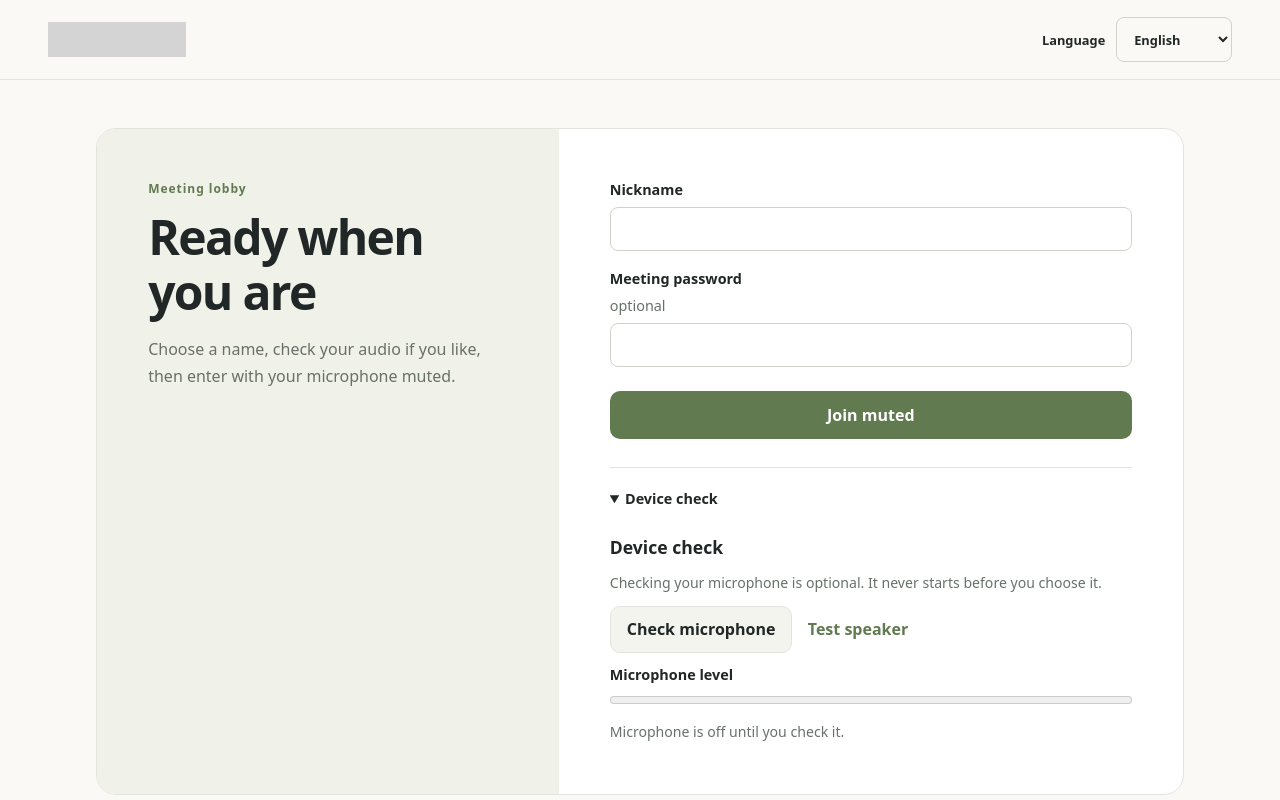
Scenario: join lobby › requires a nickname and sends a muted join request
Expected: the field labelled "Nickname" is shown, [610,207,1132,251]
Step 1. Click the button "Join muted" → (871, 415), box [610,391,1132,439]
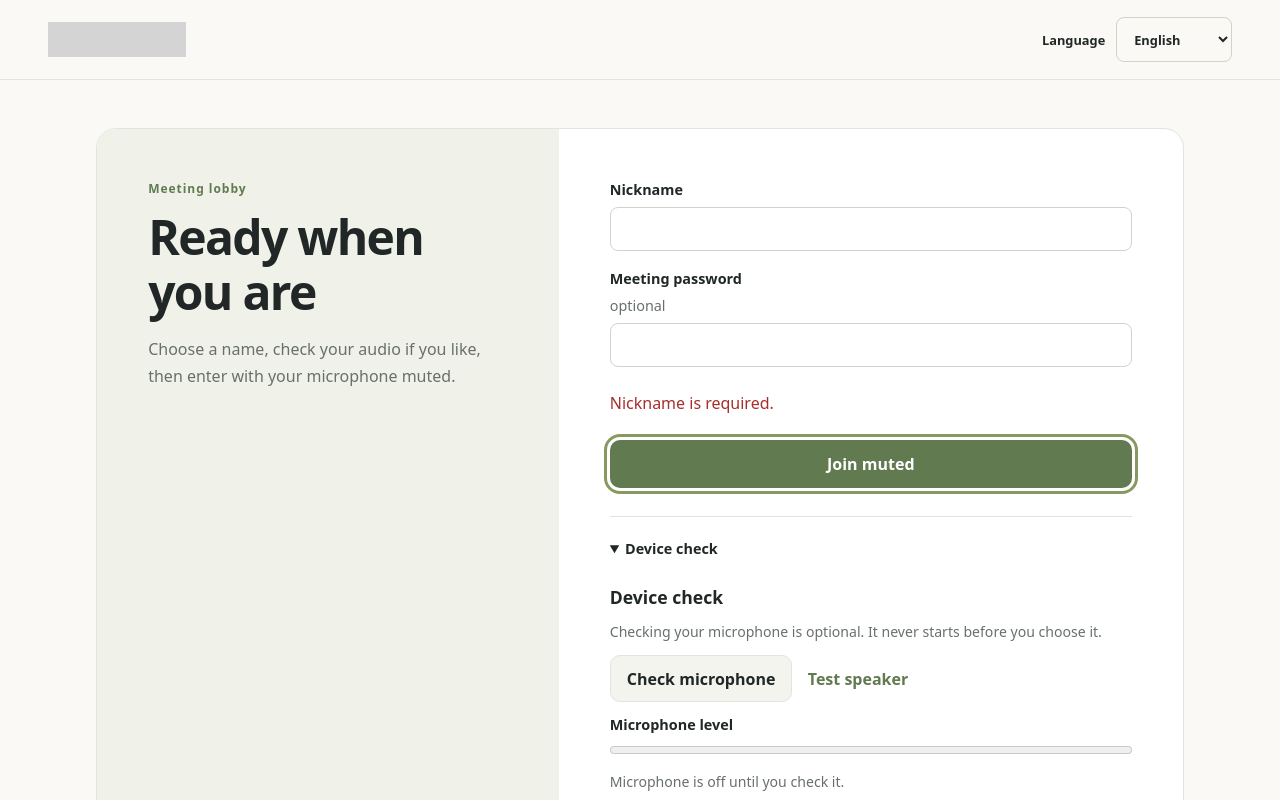
Now the text "Nickname is required." is shown, box [610,392,774,414]
Step 2. Type "Ada" into the field labelled "Nickname" → (871, 229), box [610,207,1132,251]
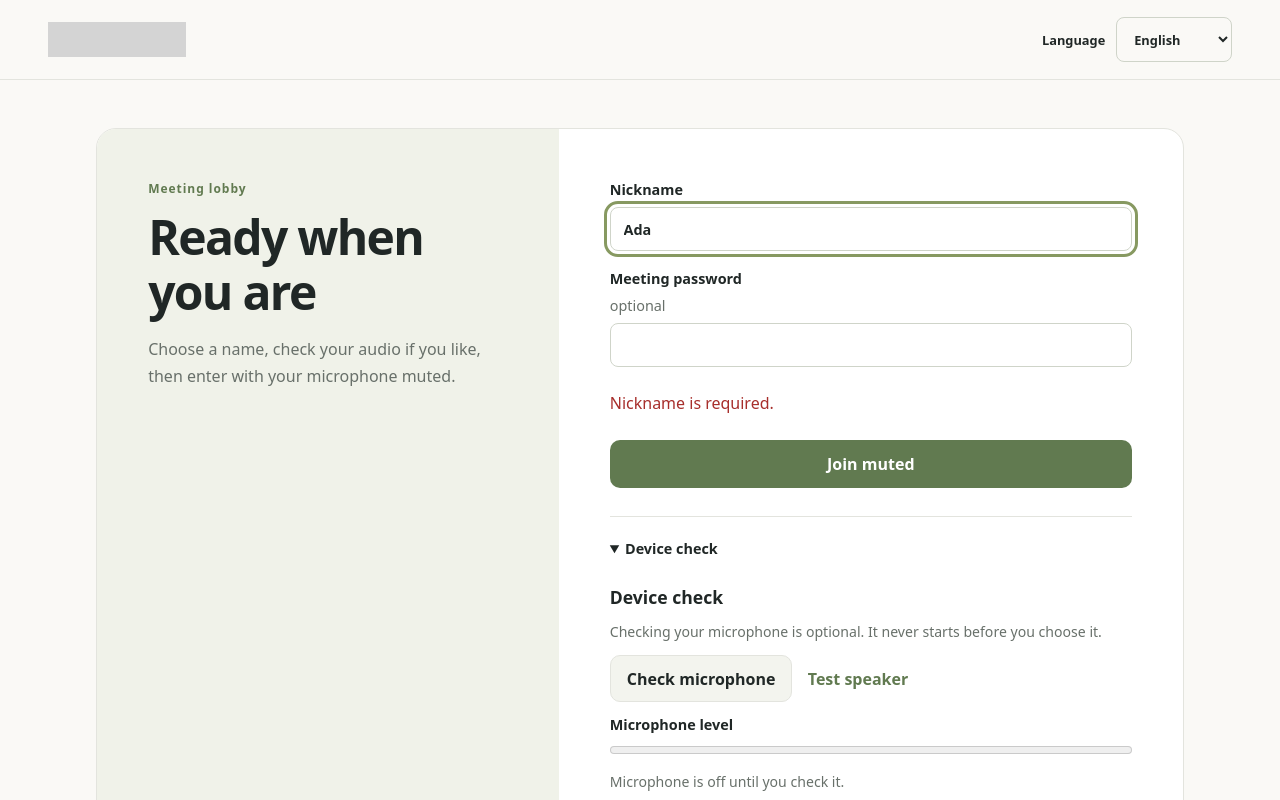
Step 3. Click the button "Join muted" → (871, 464), box [610,440,1132,488]
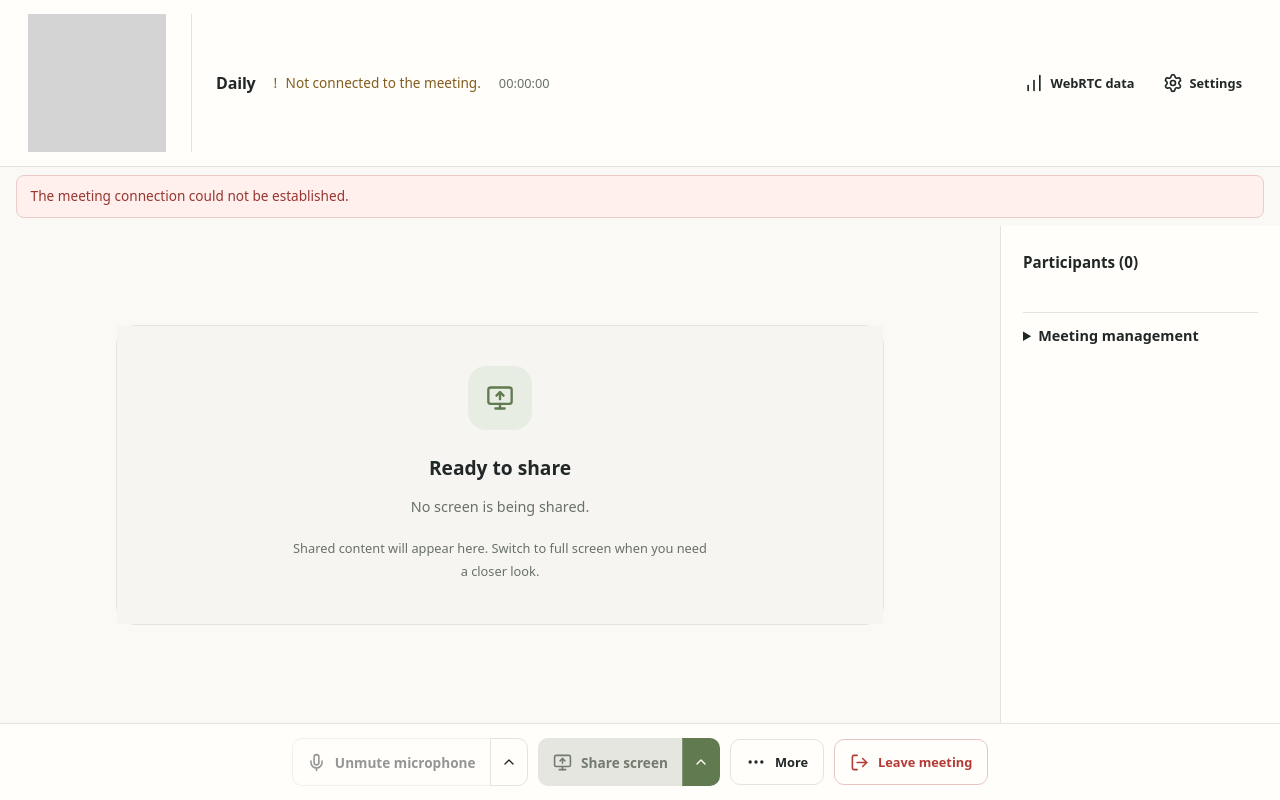
Now the heading "Daily" is shown, box [216,73,256,93]
